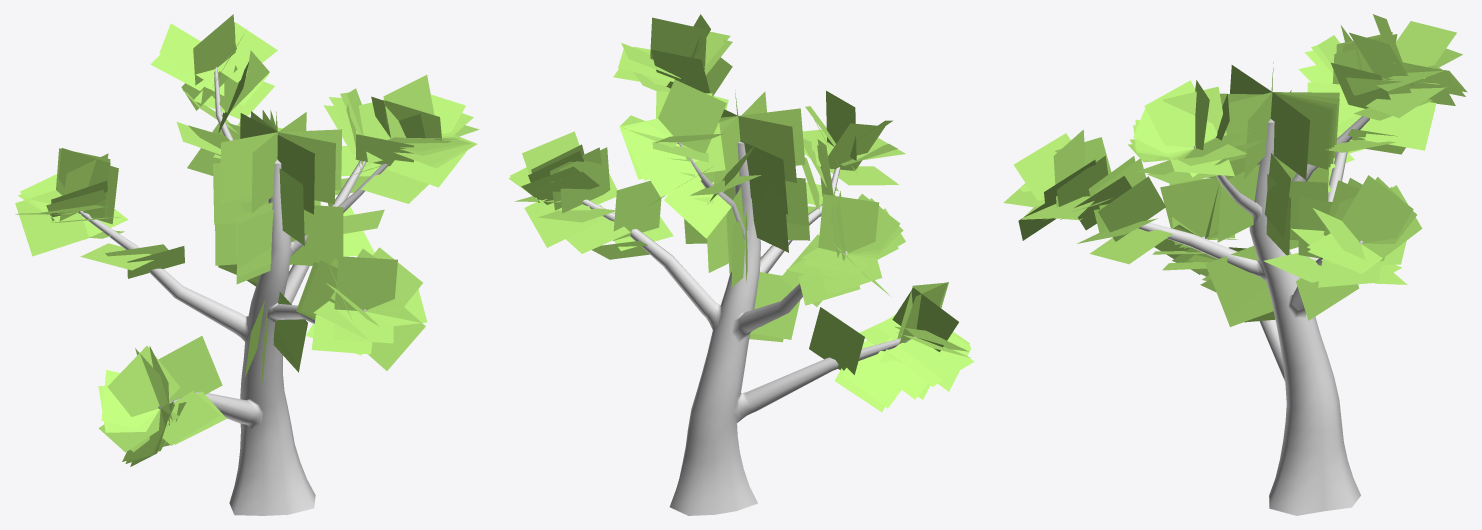
Rendered from tree1.fbx.
3 views of the same model, side by side, from view 1: azimuth 30°, elevation 25°; view 2: azimuth 150°, elevation 25°; view 3: azimuth 270°, elevation 25° (orthographic). The views are drawn at different scales.
Visible parts, largest first — view 1: rgijnba_2K_Opacity, tree1; view 2: rgijnba_2K_Opacity, tree1; view 3: rgijnba_2K_Opacity, tree1.
Part boxes in pixels (<box>): rgijnba_2K_Opacity: <box>15,14,479,466</box>; tree1: <box>78,67,388,515</box>; rgijnba_2K_Opacity: <box>508,14,974,412</box>; tree1: <box>582,141,917,515</box>; rgijnba_2K_Opacity: <box>1003,14,1467,326</box>; tree1: <box>1138,116,1369,515</box>.
Bounding box in the file's own units: 1366 × 1316 × 1491.
